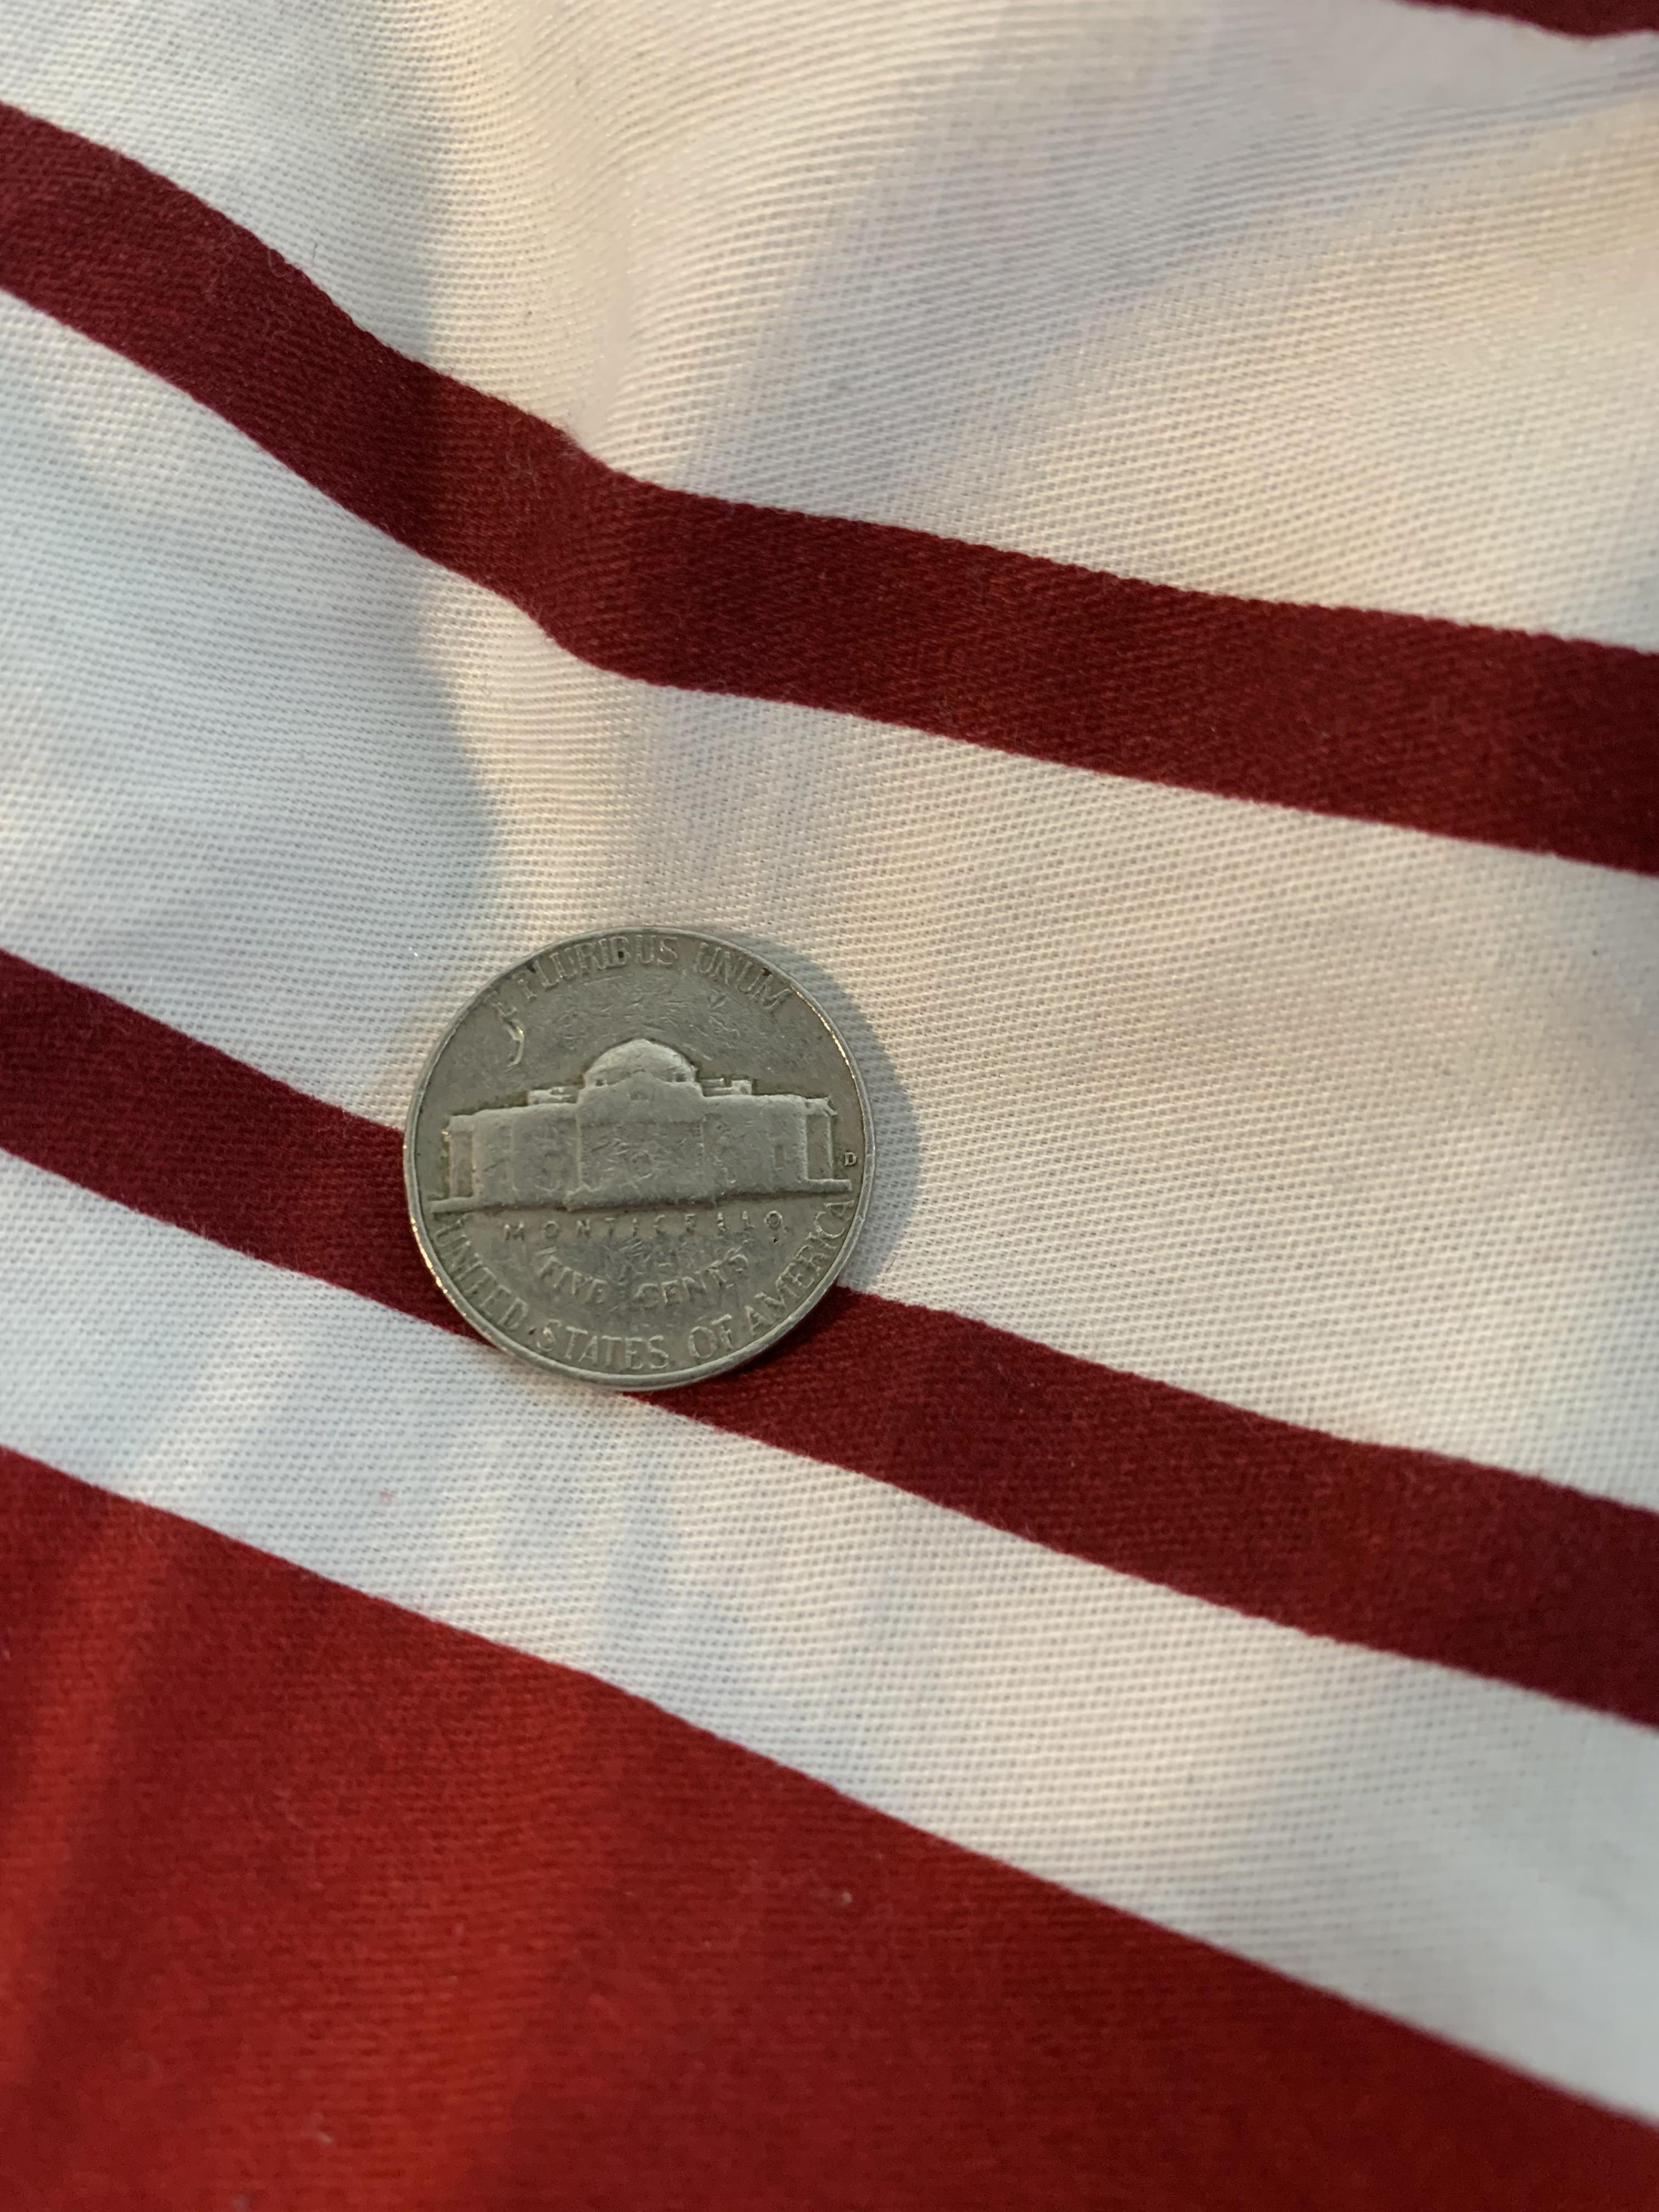Nickel: (387, 918, 894, 1406)
